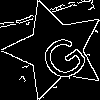G: (30, 25, 92, 86)
